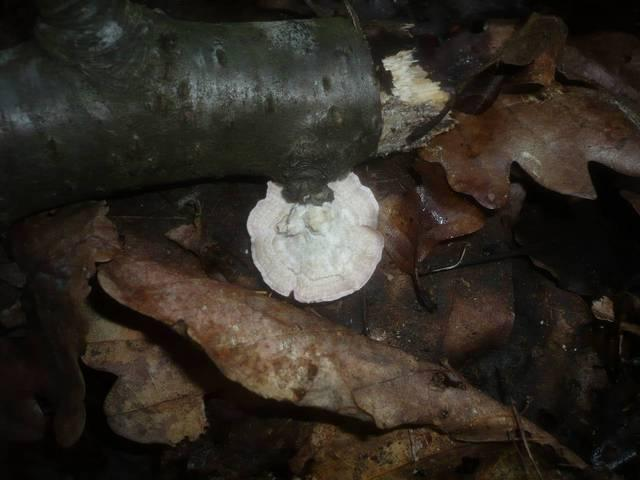poisonous_mushroom: (378, 51, 640, 264), (244, 171, 385, 304)
